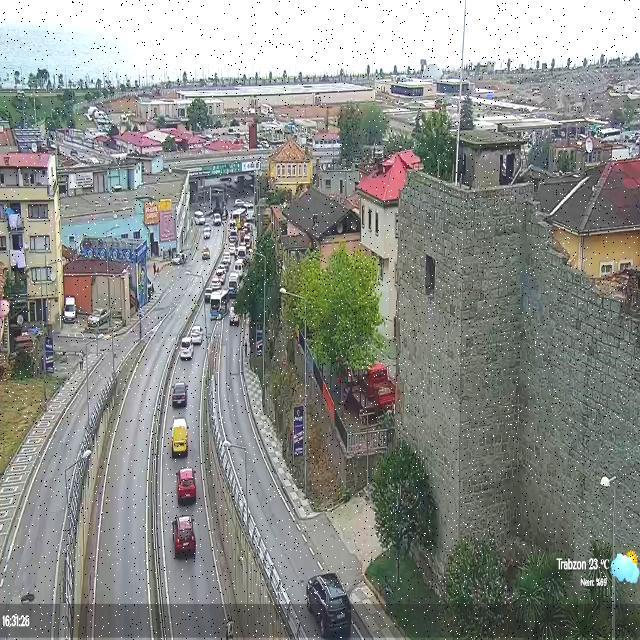car: (306, 572, 351, 637), (172, 515, 196, 557), (176, 468, 196, 504), (171, 419, 189, 457), (171, 382, 188, 408), (180, 336, 194, 359), (190, 325, 204, 344)
